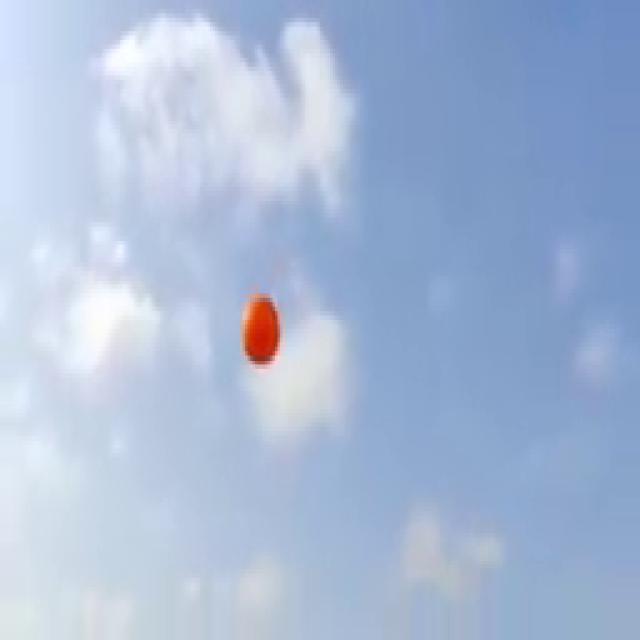red: (239, 291, 280, 367)
